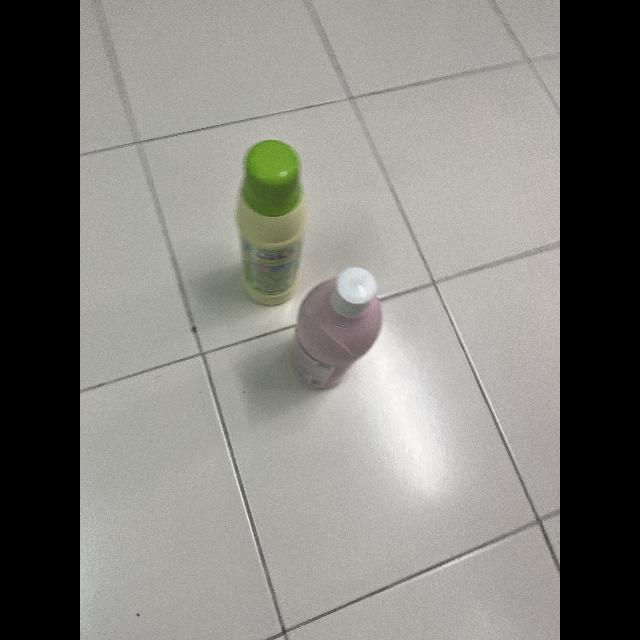chemical_plastic_bottle: (285, 261, 385, 397), (232, 138, 306, 310)
